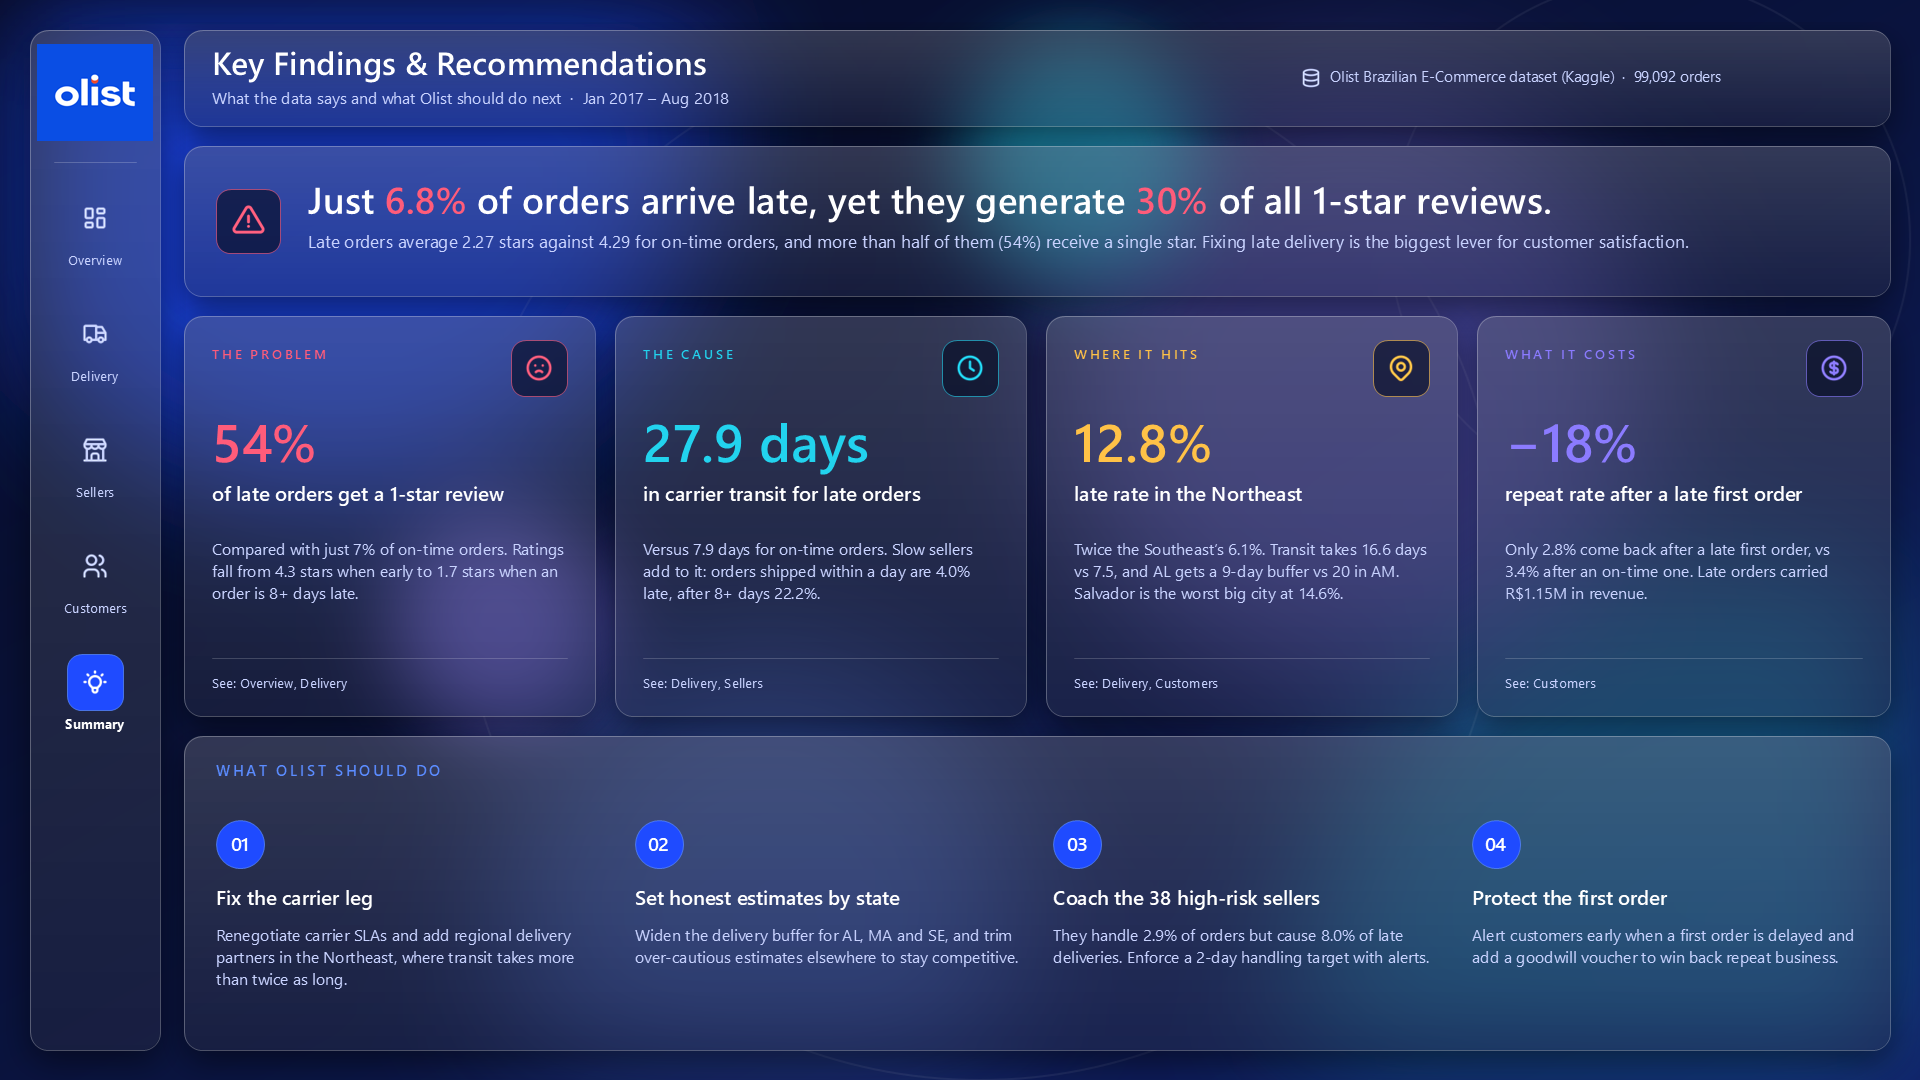

This screenshot's page, from the dashboard's own definition file:
{"tool":"powerbi","page":{"name":"Summary","canvas":[1920,1080],"ordinal":0},"visuals":[{"type":"actionButton","box":[51.8,302.4,82.1,82.1],"z":7000},{"type":"actionButton","box":[51.8,185.8,82.1,82.1],"z":8000},{"type":"actionButton","box":[51.8,423.4,82.1,82.1],"z":9000},{"type":"actionButton","box":[51.8,540,82.1,82.1],"z":9001}]}

Visuals, with their boxes on the page's 1920x1080 design canvas (x1, y1, x2, y2). These are canvas units, not pixel positions in the 1920x1080 screenshot, which may show the page scaled, cropped or inside an application window:
actionButton: BBox(52, 302, 134, 384)
actionButton: BBox(52, 186, 134, 268)
actionButton: BBox(52, 423, 134, 506)
actionButton: BBox(52, 540, 134, 622)
